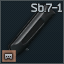SOK-12 polymer handguard Sb.7-1: (0, 0, 64, 64)
